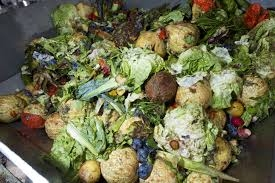kitchen_waste: (154, 100, 221, 161), (63, 110, 111, 157), (99, 145, 146, 182), (171, 43, 218, 78), (42, 136, 87, 172), (207, 68, 245, 109), (161, 21, 207, 54), (144, 71, 183, 105), (140, 156, 185, 183), (136, 26, 170, 61), (1, 94, 30, 125), (20, 104, 50, 127), (78, 159, 103, 182), (181, 169, 212, 183)
